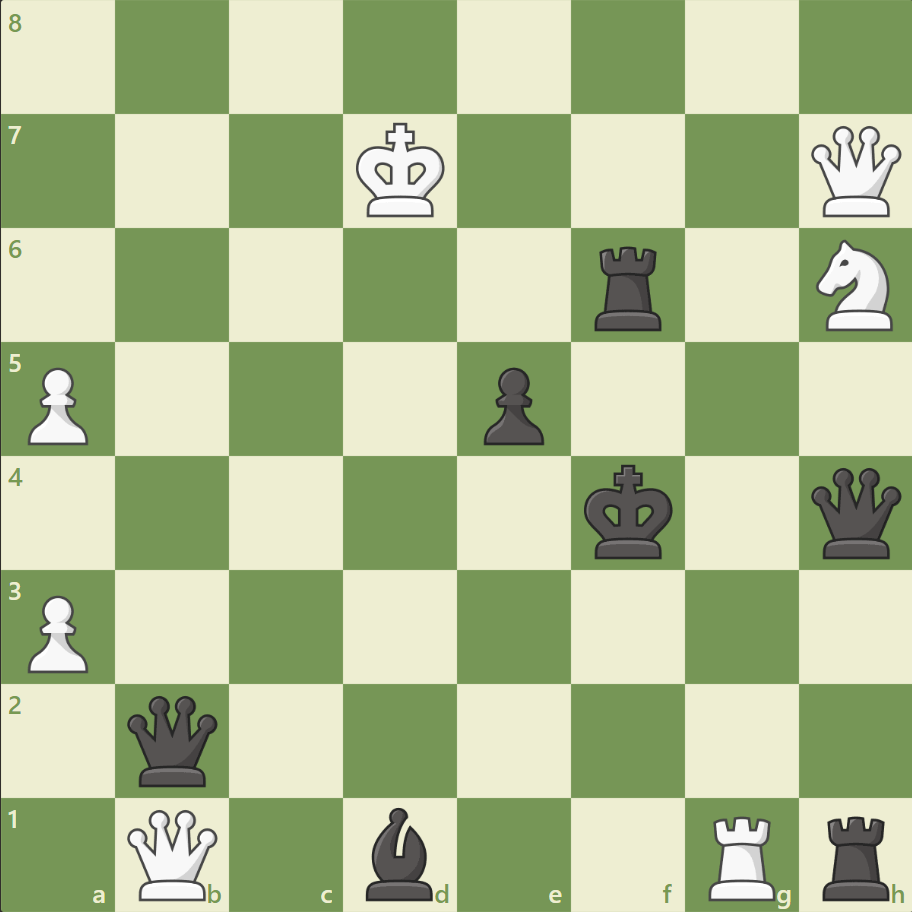K: (351, 117, 451, 225)
N: (806, 234, 903, 337)
P: (20, 359, 95, 450), (20, 586, 95, 677)
Q: (805, 122, 904, 222), (124, 804, 223, 903)
R: (700, 806, 783, 904)
b: (358, 801, 442, 904)
k: (579, 458, 679, 566)
p: (474, 359, 549, 450)
q: (805, 463, 904, 562), (124, 690, 223, 789)
r: (814, 806, 897, 904), (587, 239, 670, 336)
